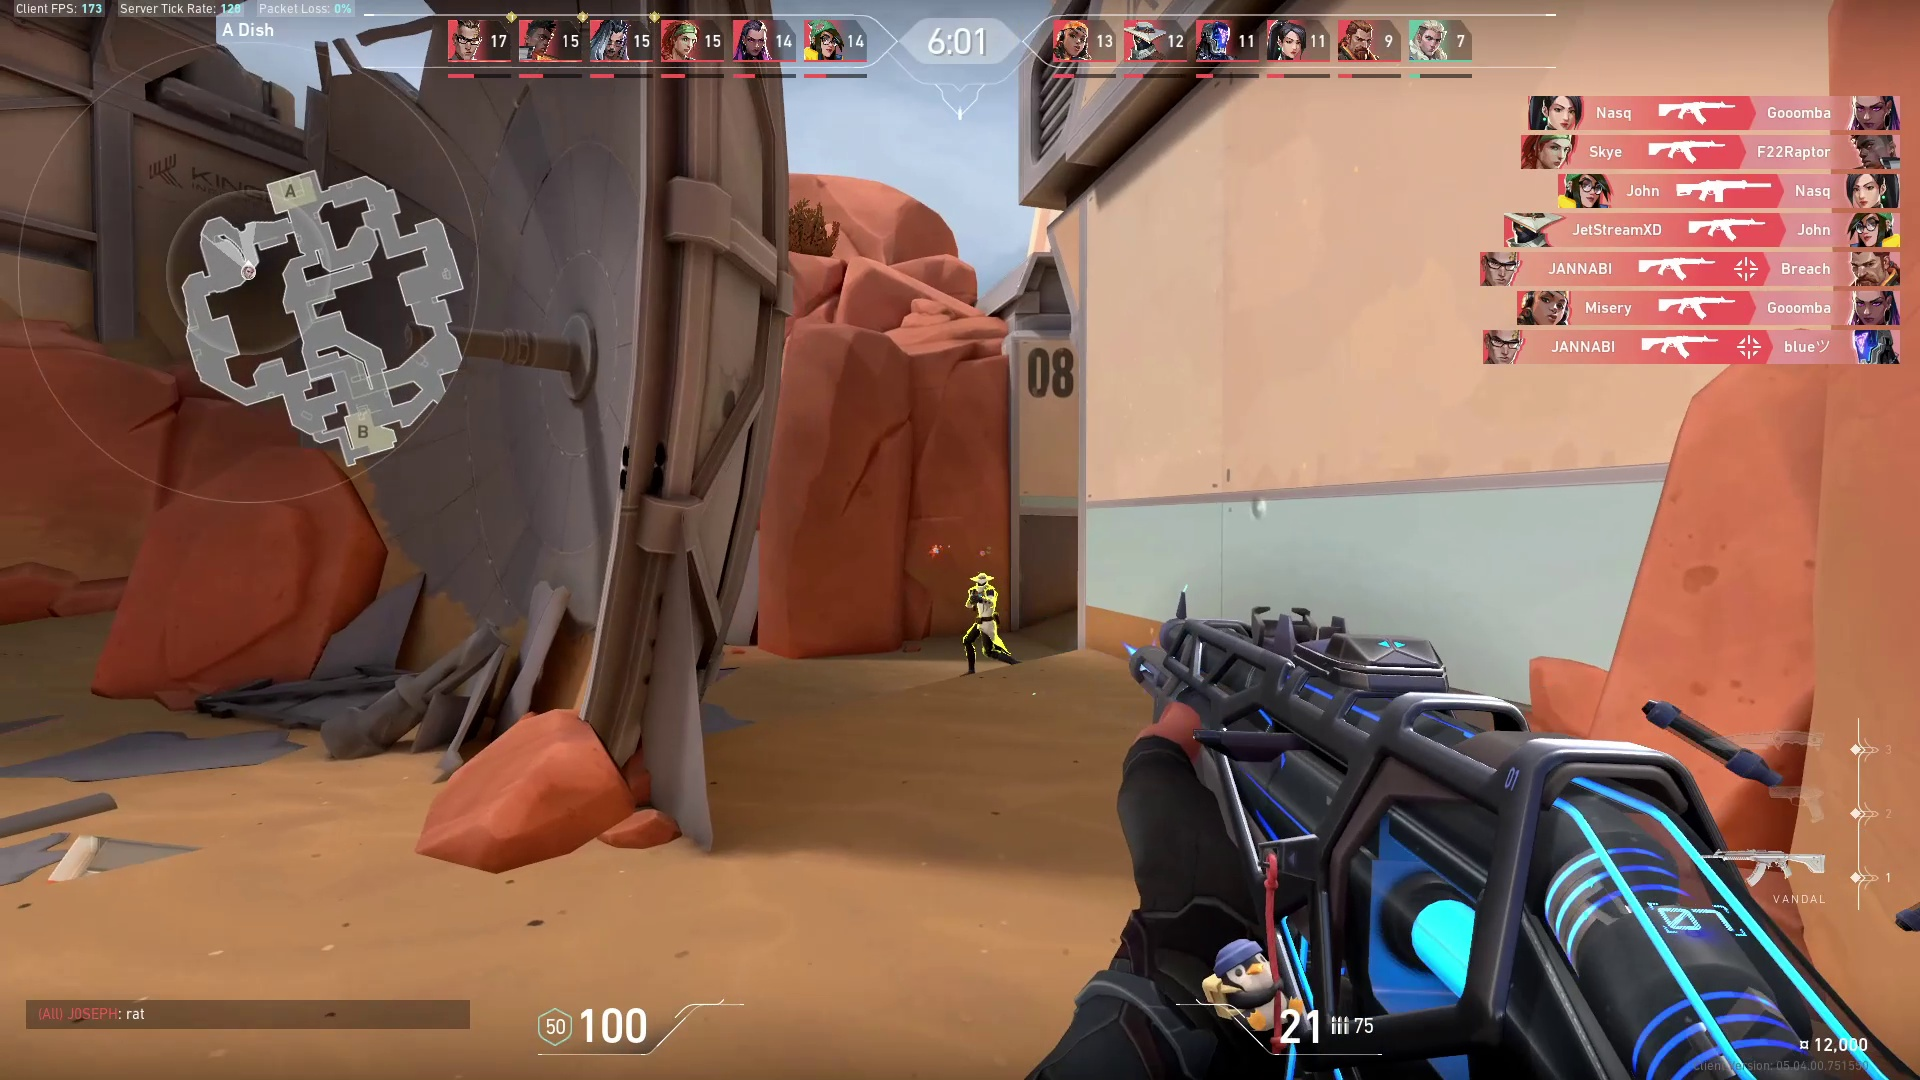enemy_body: (955, 585, 1033, 679)
enemy_head: (960, 567, 1004, 592)
